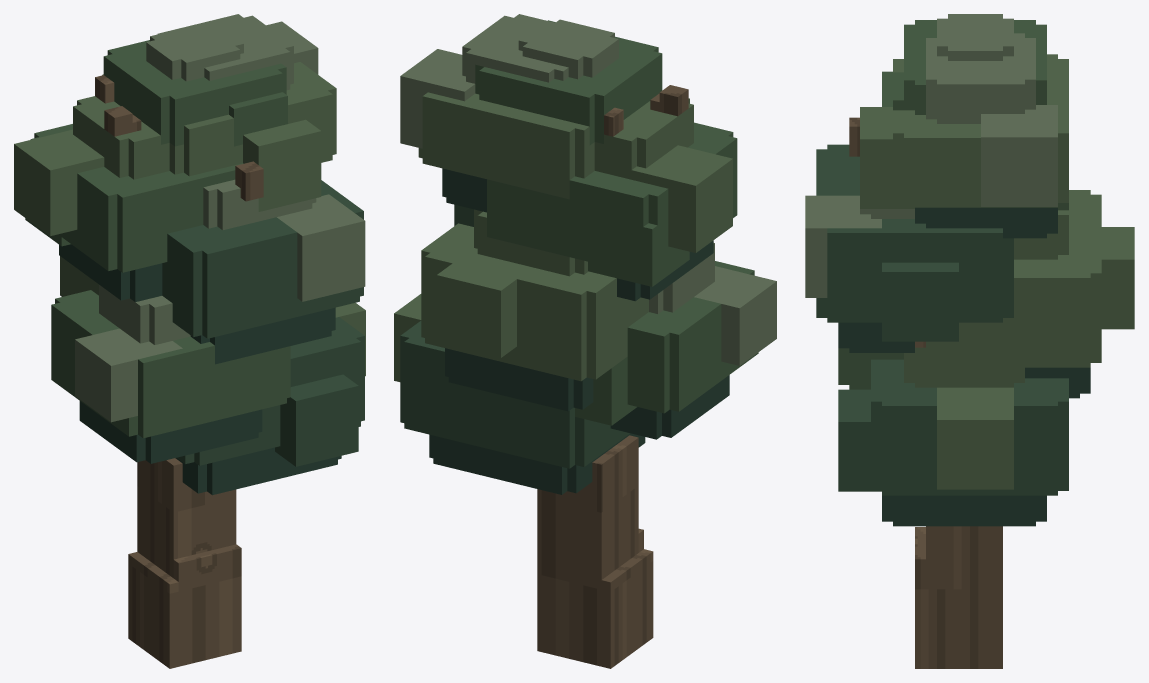
Rendered from juniper_ancient_picked.glb.
3 renders of one model, left to right at view 1: azimuth 30°, elevation 25°; view 2: azimuth 150°, elevation 25°; view 3: azimuth 270°, elevation 25°, orthographic. The views are drawn at different scales.
Parts seen in each view (by area): view 1: VoxelVisual; view 2: VoxelVisual; view 3: VoxelVisual.
Part boxes in pixels (x1,y1,x2,y2): VoxelVisual: (14, 14, 365, 668); VoxelVisual: (394, 14, 776, 668); VoxelVisual: (805, 14, 1134, 668).
Size of what is drawn, in the model's own units: 8.5 by 15.75 by 7.5.
